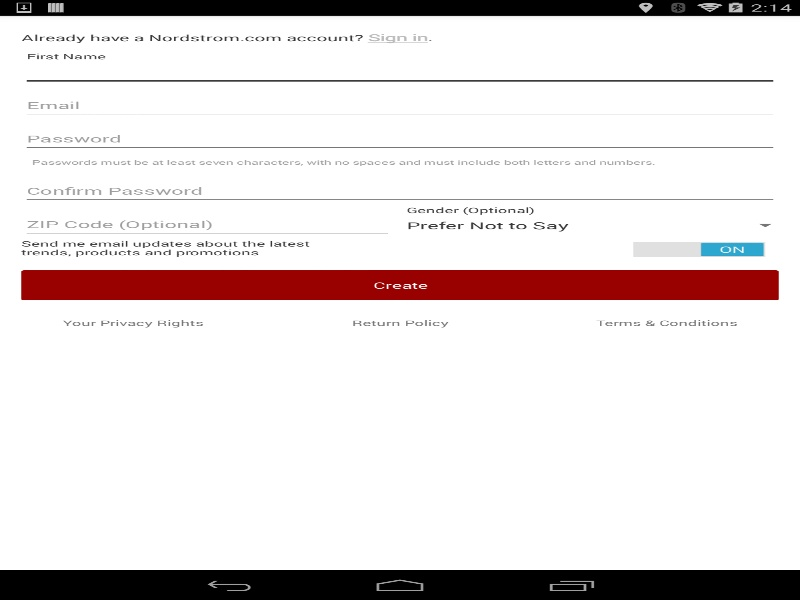Button: (21, 270, 778, 300)
Input: (21, 92, 778, 119), (21, 178, 778, 205), (21, 59, 778, 85), (21, 126, 778, 152), (21, 211, 393, 238)
